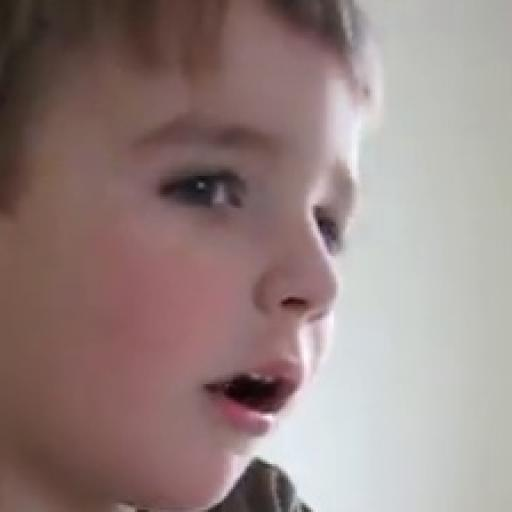Autism: (18, 9, 500, 512)
